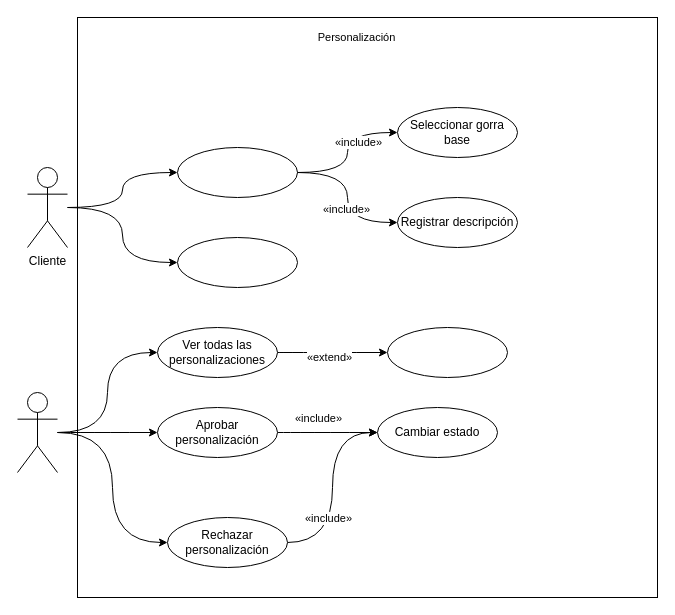
Image size: 675x615. Some labels were removed from this diagram. Each missing label, with the centre of its shape:
Actor: [37,432]
Filtrar por estado: [447,352]
Solicitar personalización: [237,172]
Ver mis personalizaciones: [237,262]
